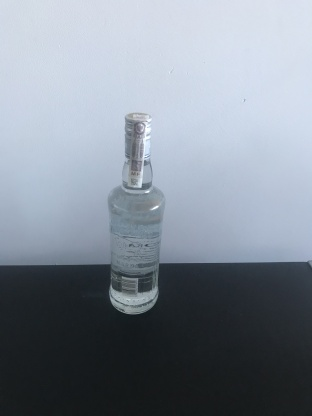nakretka: (123, 109, 153, 162)
